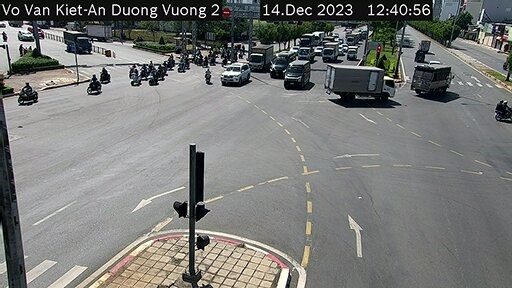car: (218, 62, 254, 87), (273, 50, 289, 77)
motorbike: (492, 97, 512, 126), (17, 80, 39, 106), (84, 74, 104, 94), (199, 68, 213, 90), (97, 68, 114, 81)
truck: (325, 60, 397, 103), (411, 60, 461, 100), (246, 39, 277, 71), (291, 57, 313, 93), (63, 31, 96, 53), (325, 40, 340, 62), (296, 43, 314, 59), (418, 38, 433, 53)
